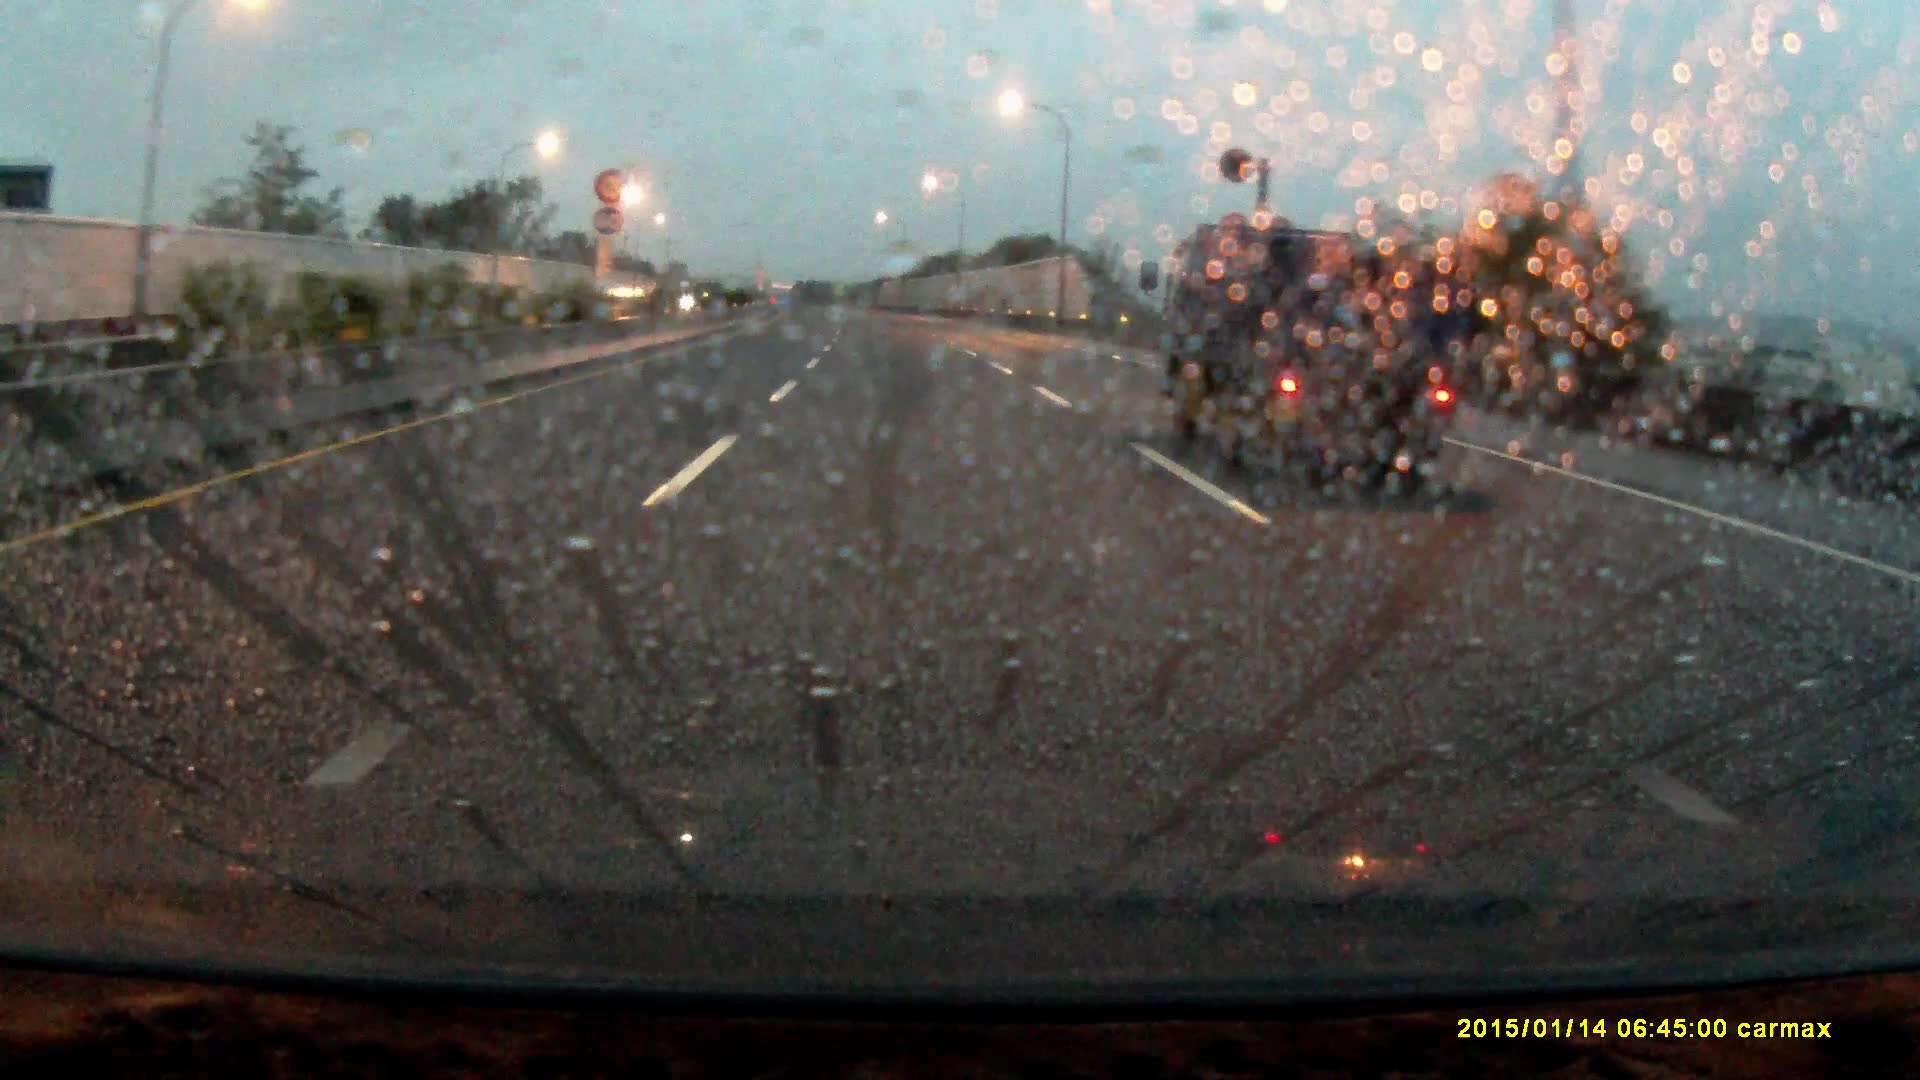vehicle: (1189, 207, 1489, 509)
